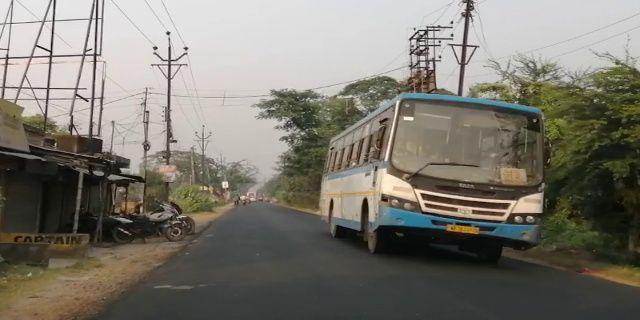Bus: (320, 96, 543, 266)
Motorbike: (102, 199, 198, 242)
